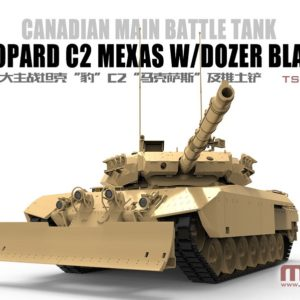Battle Tank: (1, 86, 299, 283)
